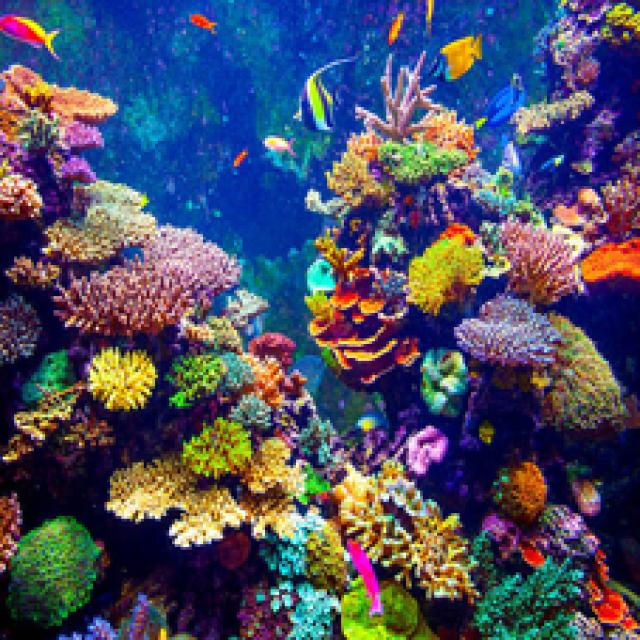Healthy: (55, 227, 238, 334), (331, 461, 472, 599), (1, 66, 117, 218), (305, 241, 418, 384), (105, 455, 243, 545), (4, 351, 108, 461), (9, 517, 100, 627), (542, 314, 627, 430), (49, 181, 153, 263), (477, 559, 579, 638), (455, 294, 559, 362), (410, 224, 483, 314), (241, 438, 303, 537), (170, 353, 283, 407), (506, 224, 582, 303), (342, 576, 435, 638), (241, 582, 339, 638), (328, 131, 390, 210), (291, 508, 348, 593), (525, 506, 599, 571), (88, 348, 156, 407), (184, 418, 252, 477), (384, 139, 466, 184), (497, 463, 545, 523), (602, 162, 638, 238), (424, 351, 466, 415), (1, 297, 40, 365), (585, 238, 638, 280), (1, 494, 21, 573), (7, 258, 57, 286), (489, 514, 514, 542)
